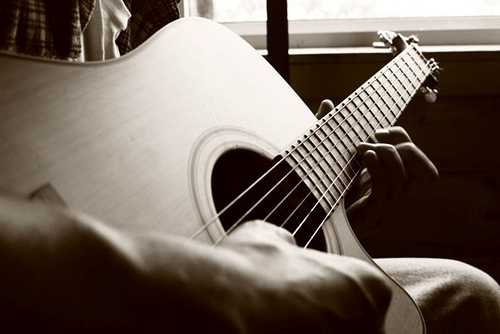guitar: (2, 16, 443, 334)
